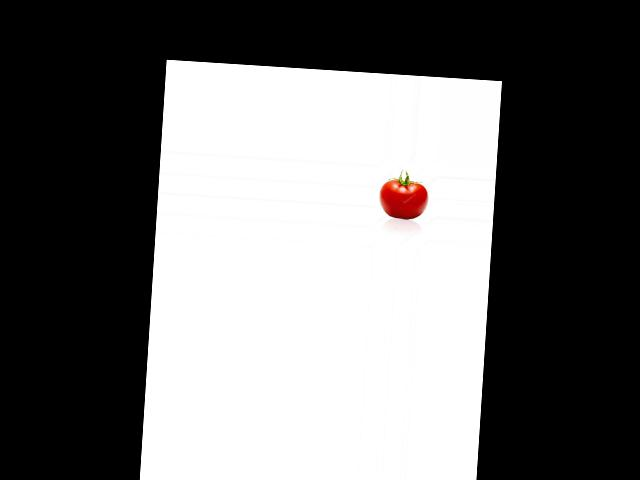tomato: (378, 179, 429, 220)
